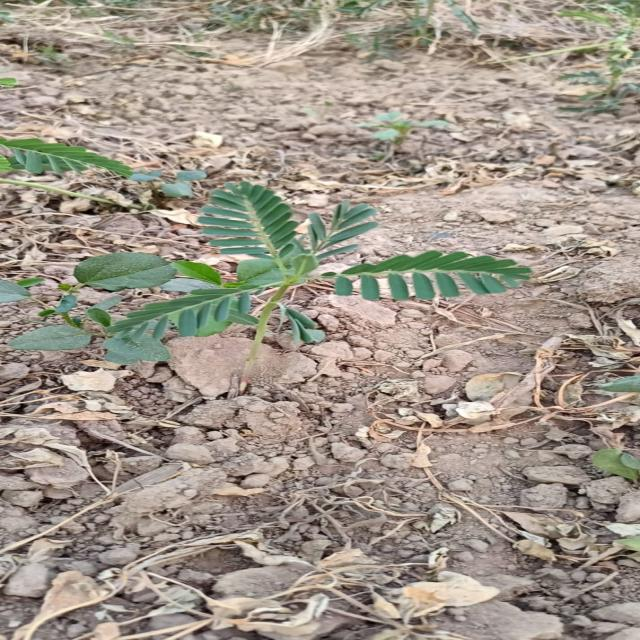plant: (106, 182, 376, 350), (313, 251, 529, 299)
